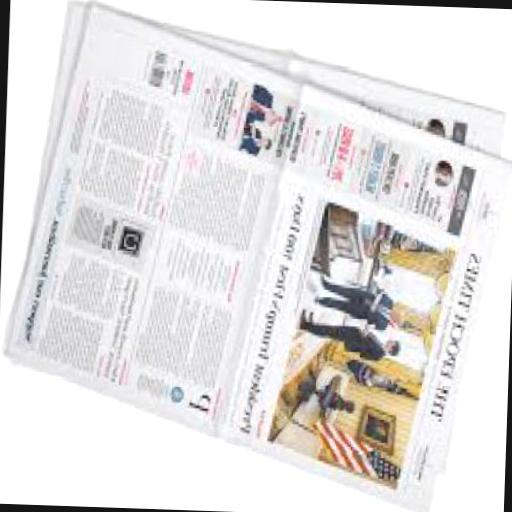paper: (1, 1, 512, 512), (2, 4, 510, 480)
